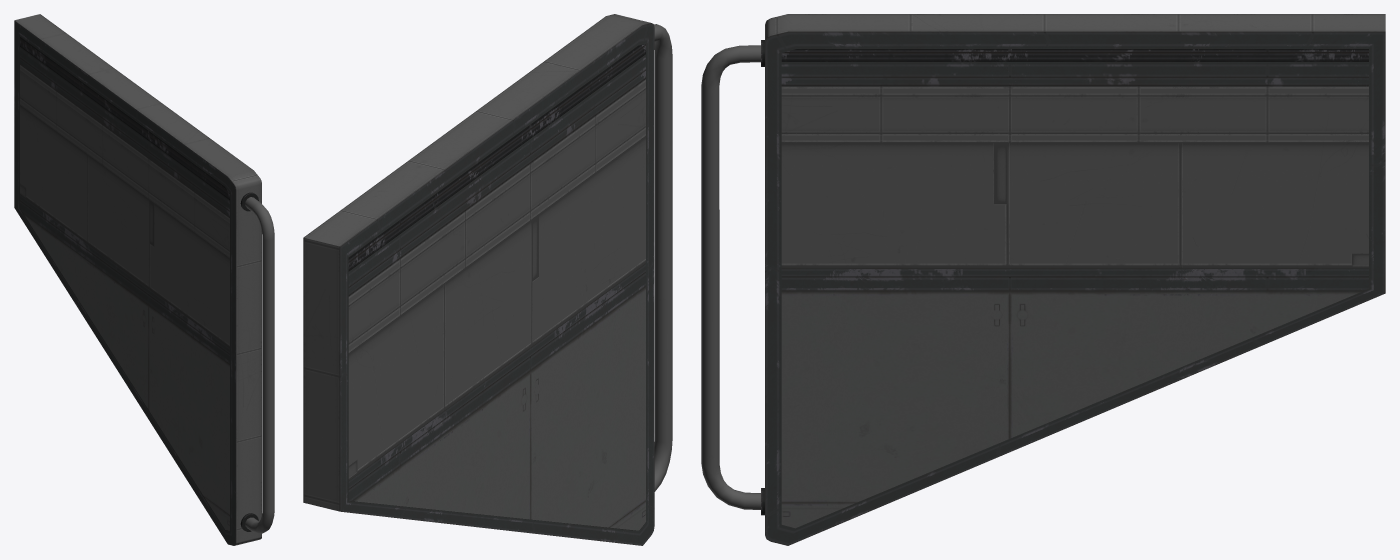
The model's file is Subway_wall_3B_side1.fbx.
The picture shows the model from 3 angles, left to right: view 1: azimuth 30°, elevation 25°; view 2: azimuth 150°, elevation 25°; view 3: azimuth 270°, elevation 25°; orthographic projection. The views are drawn at different scales.
Parts seen in each view (by area): view 1: polySurface266; view 2: polySurface266; view 3: polySurface266.
Part boxes in pixels (x1,y1,x2,y2): polySurface266: [14, 14, 274, 545]; polySurface266: [303, 14, 672, 545]; polySurface266: [701, 14, 1385, 545].
Size of the model in its own units: 15.46 by 209 by 251.
